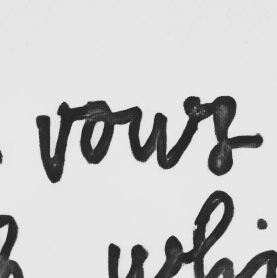o: (77, 98, 118, 167)
s: (205, 92, 239, 179)
v: (33, 102, 75, 185)
w: (126, 93, 202, 171)
